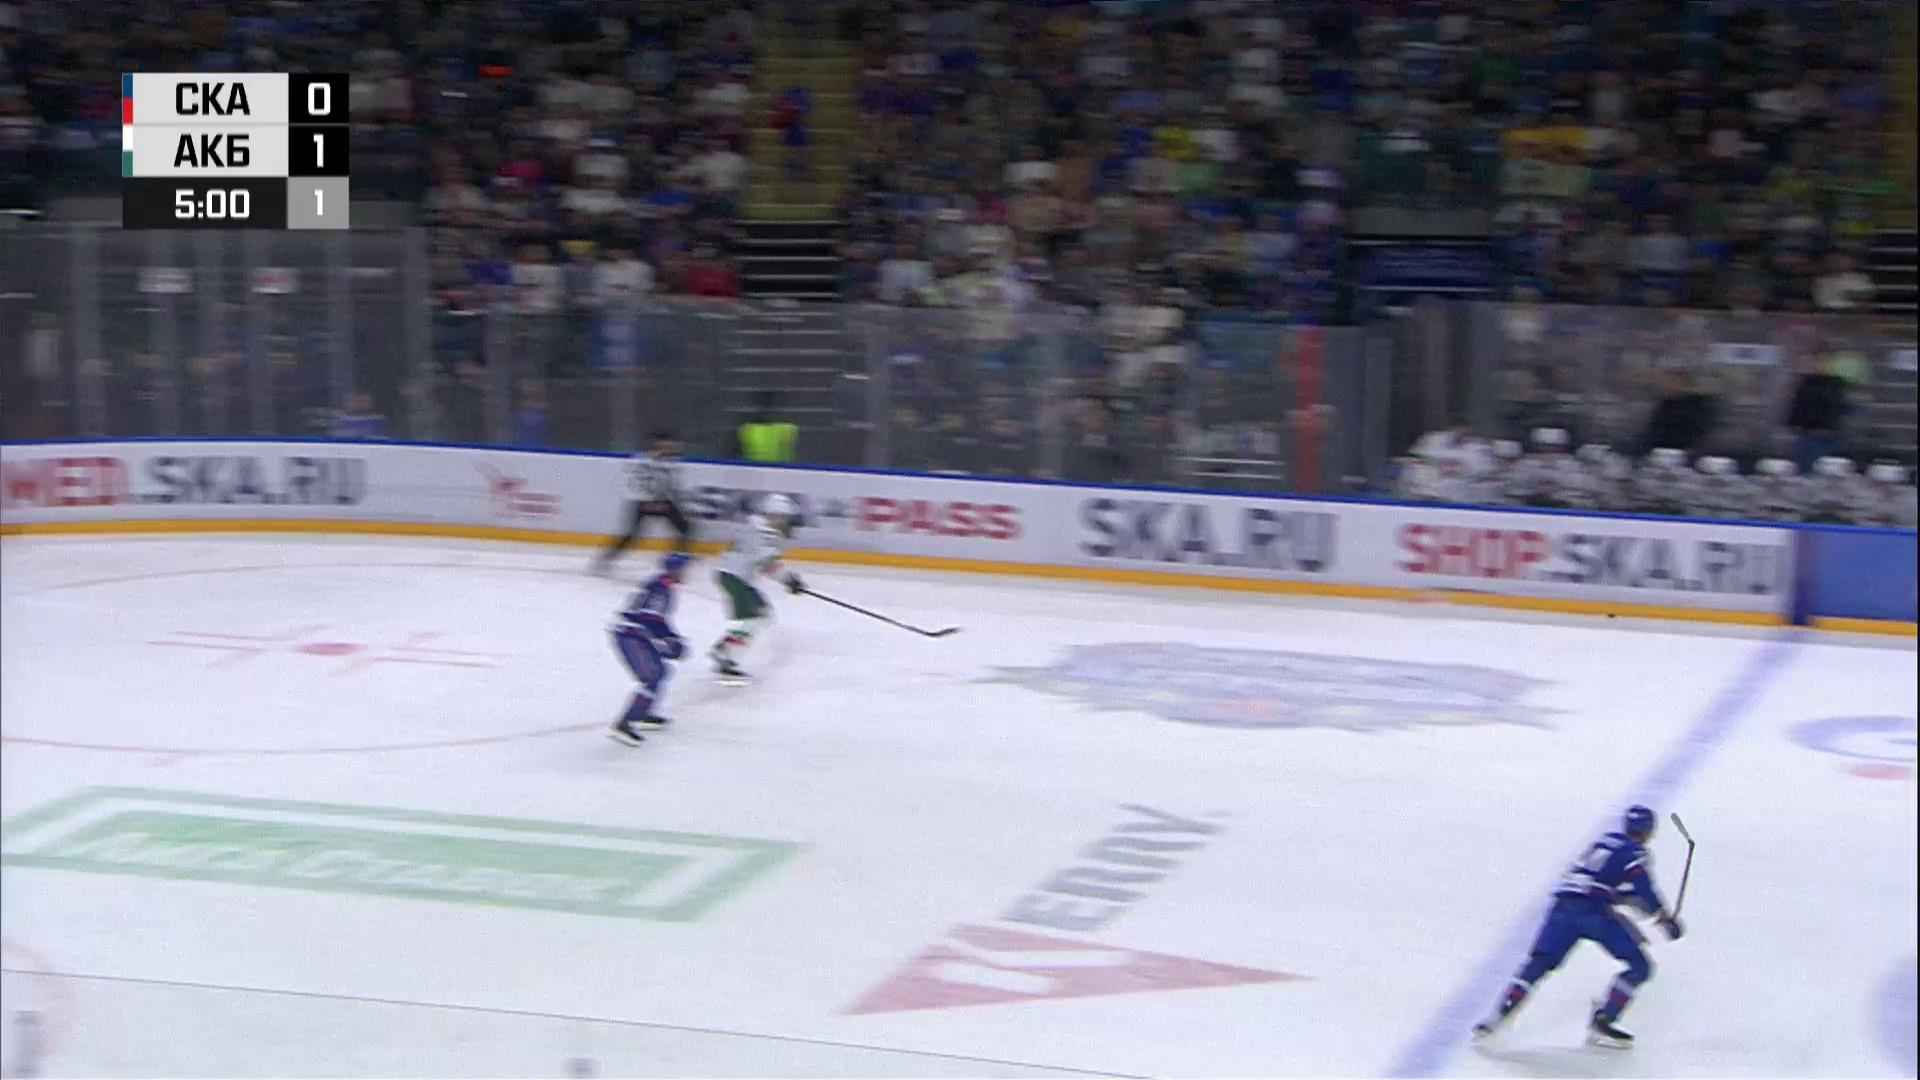ball: (1606, 613, 1618, 618)
